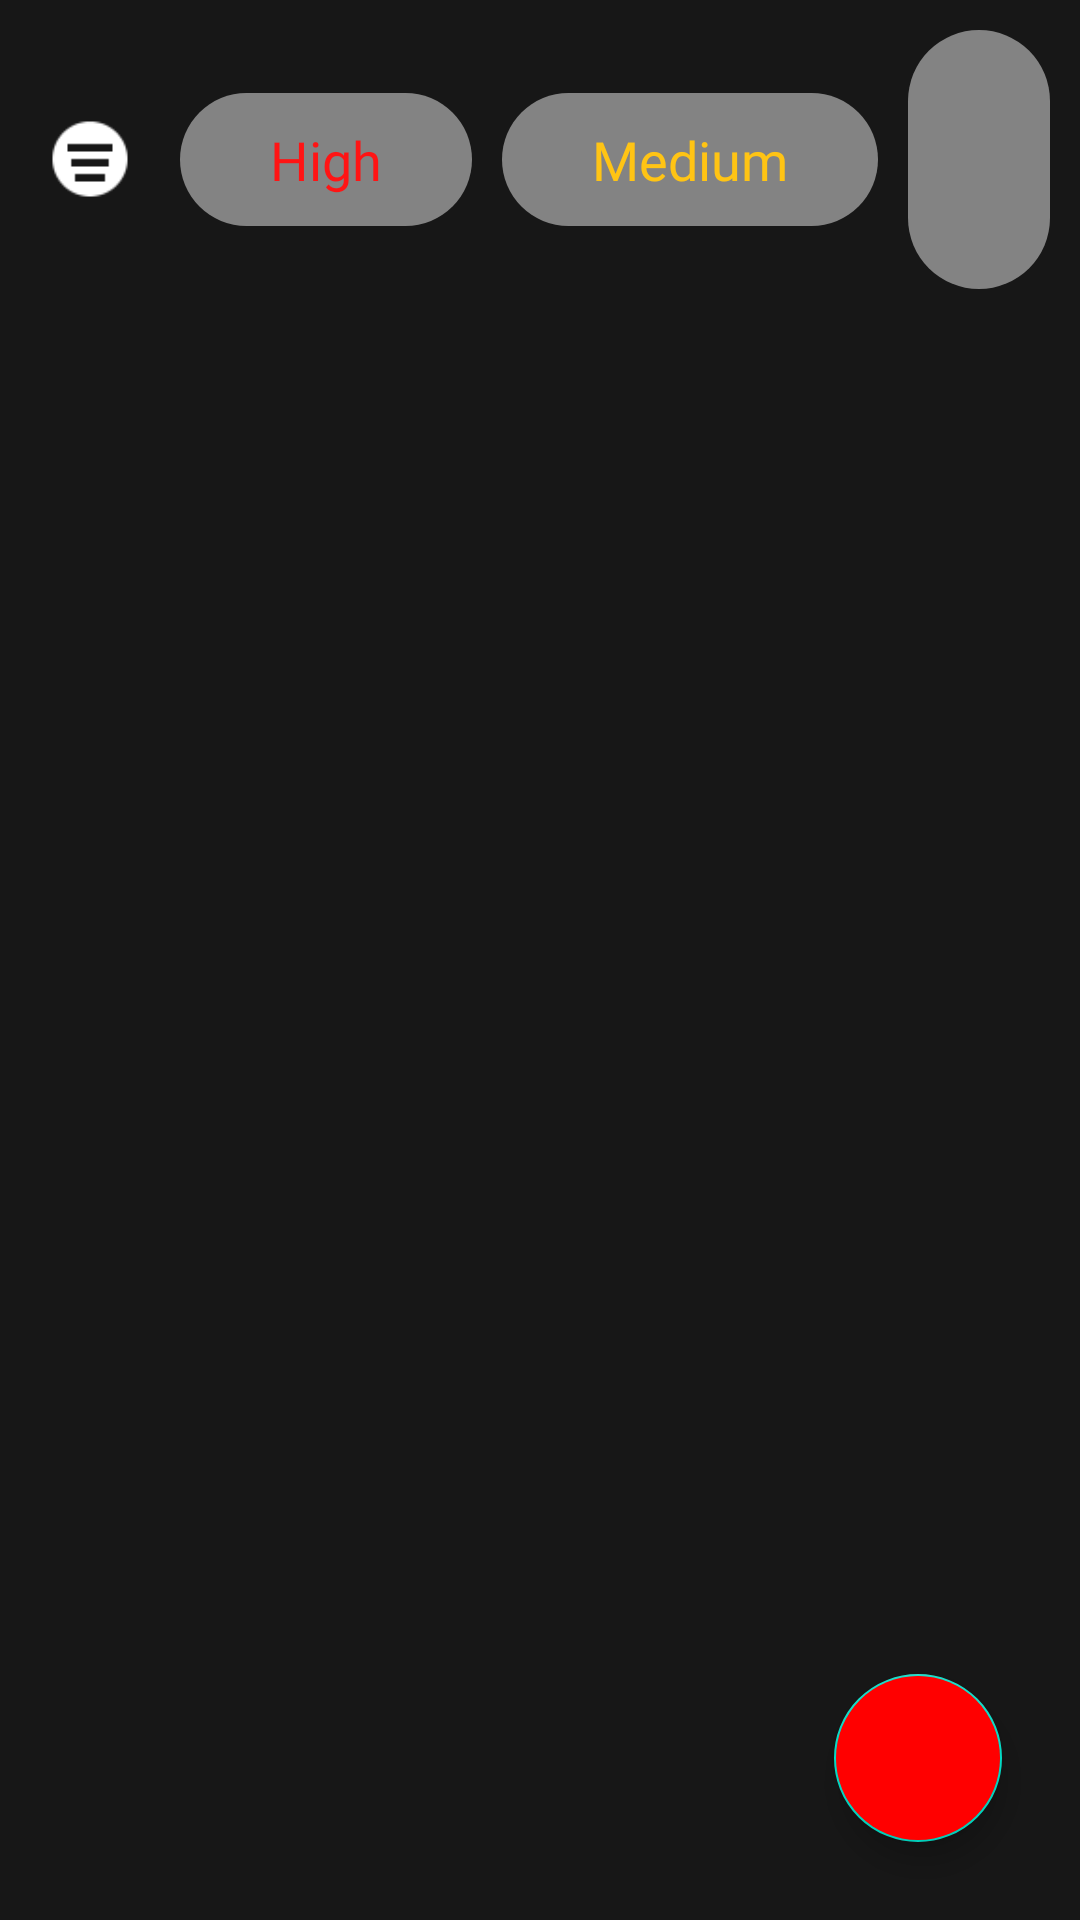

Icons on this 1080x1920 Android screen, each with the point to tap as point (x, y):
mail filter: point (90, 159)
